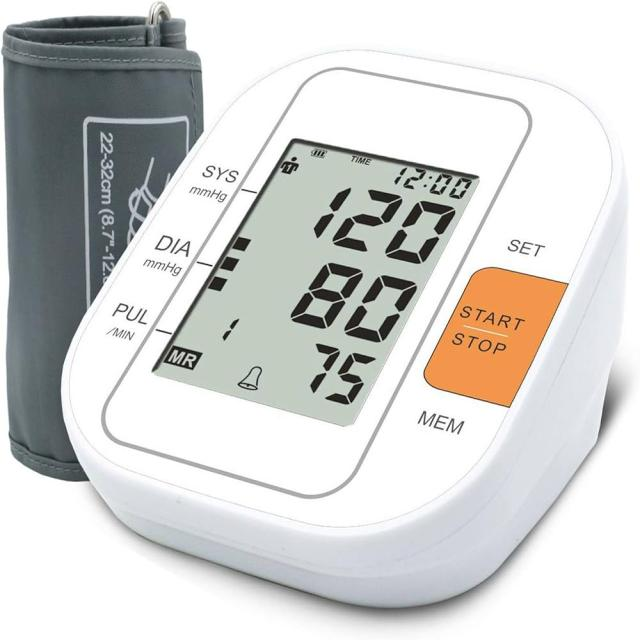dia: (269, 245, 429, 356)
pul: (267, 316, 384, 427)
ssd: (151, 83, 483, 466)
sys: (295, 166, 463, 272)
